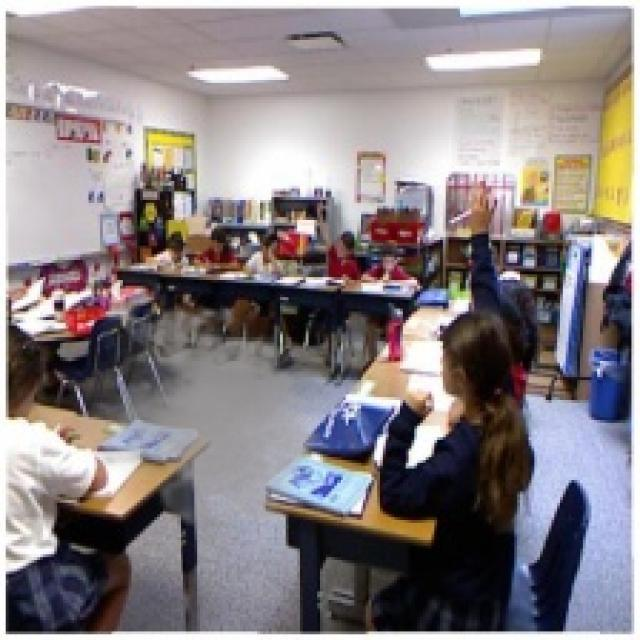Smoke: (69, 292, 328, 548)
